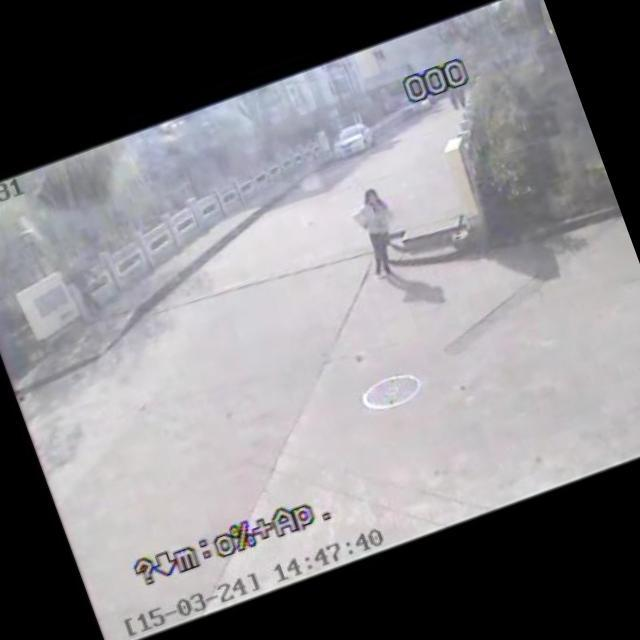person: (338, 179, 418, 285), (60, 253, 116, 328)
